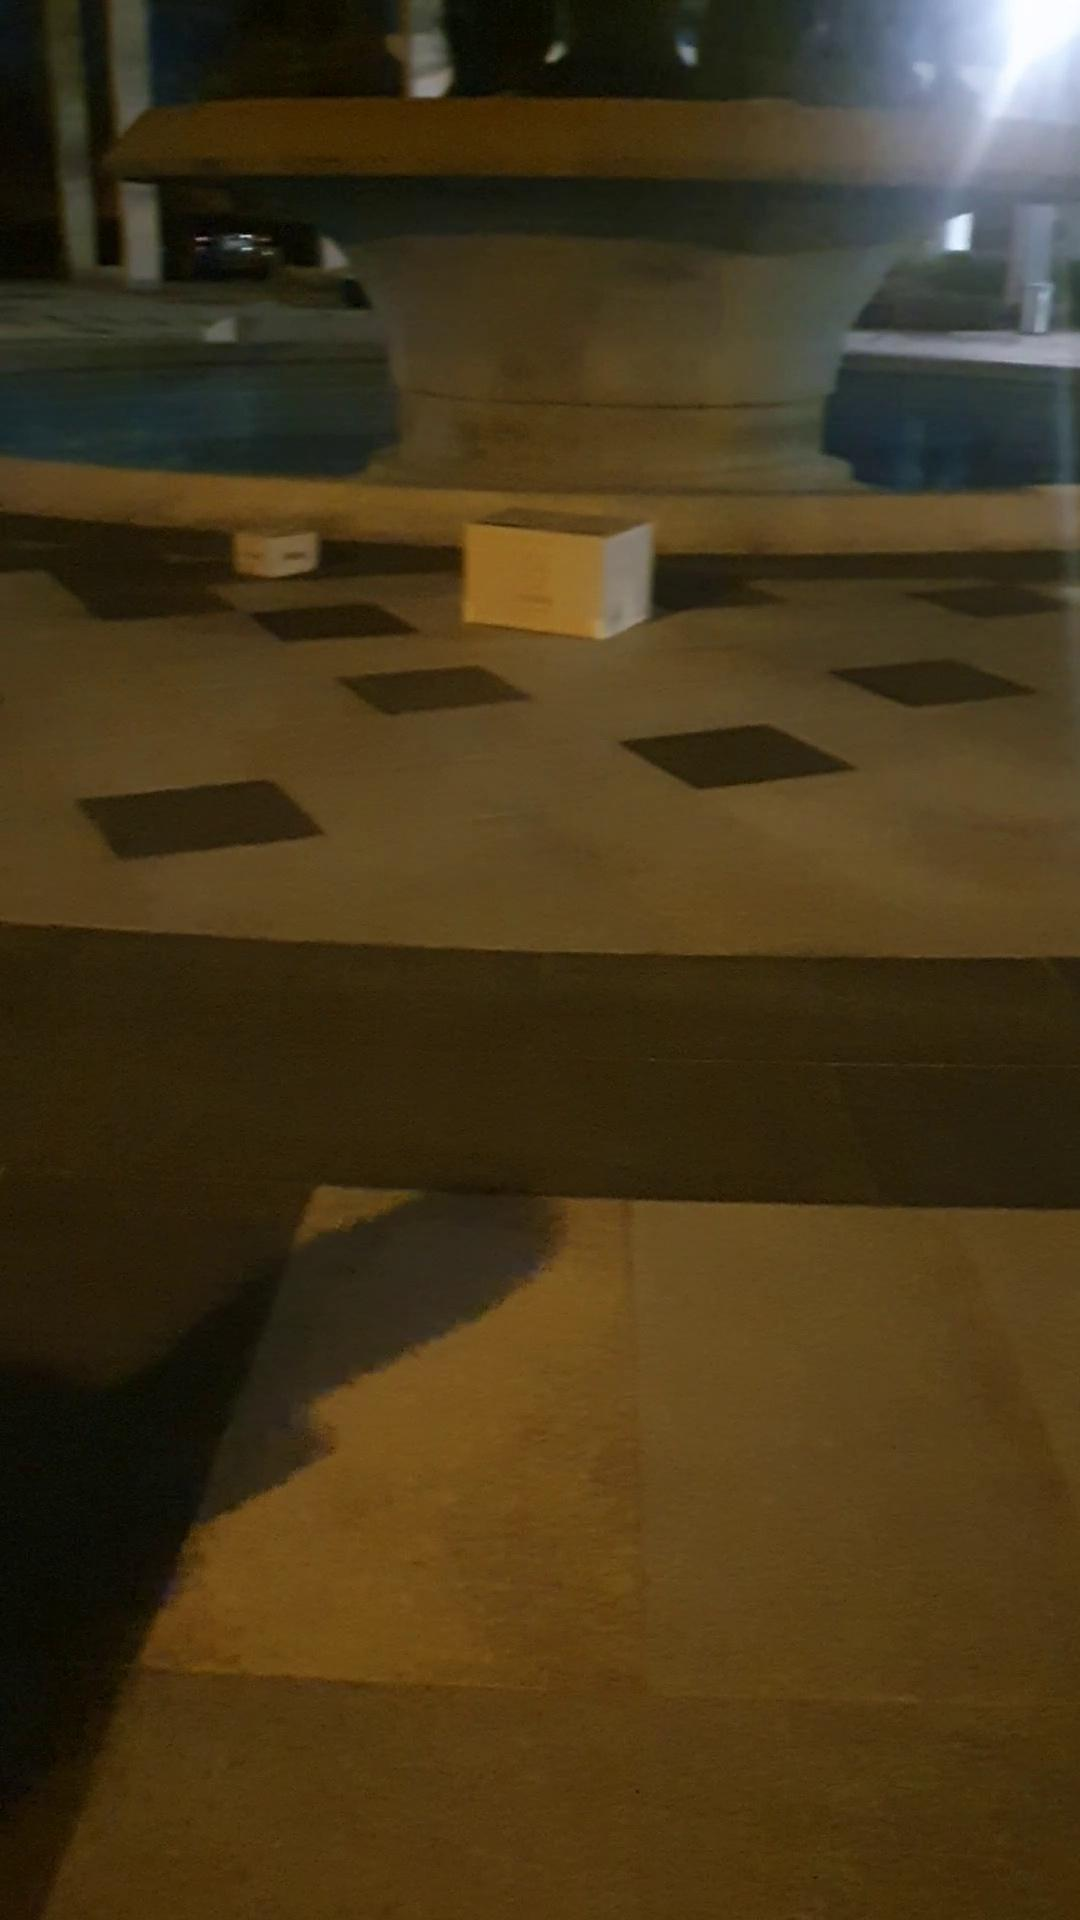Box: (443, 500, 662, 650), (211, 505, 328, 595)
